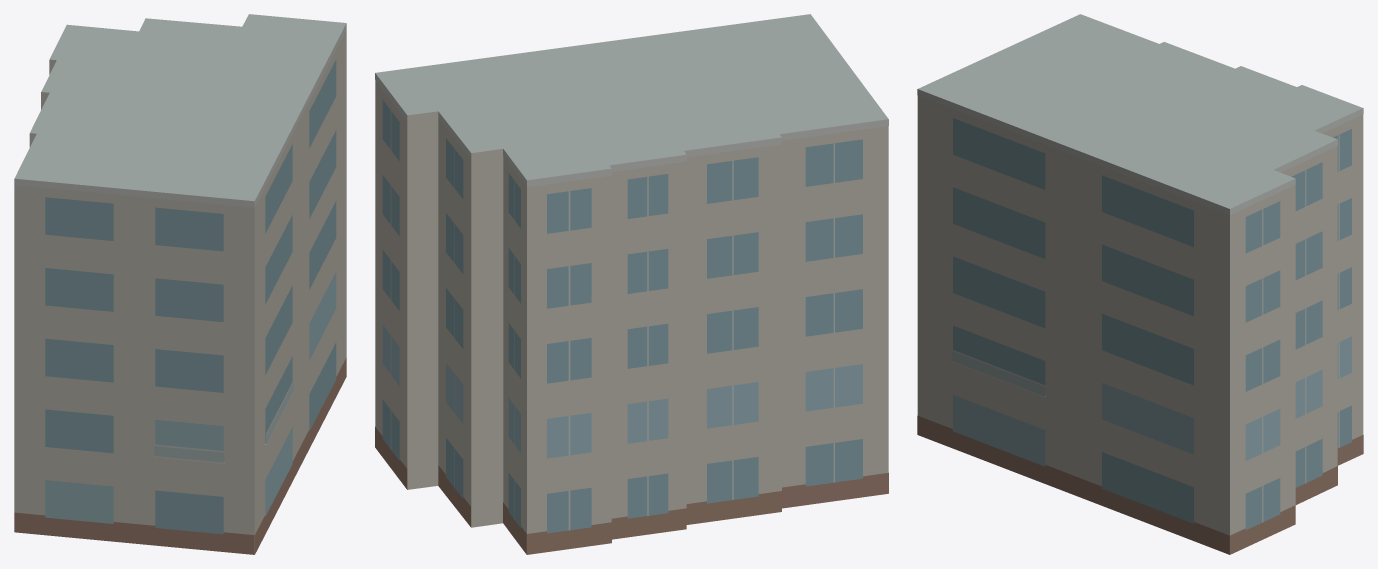
The model's file is survey-upis-32673871.glb.
3 views of the same model, side by side, from view 1: azimuth 30°, elevation 25°; view 2: azimuth 150°, elevation 25°; view 3: azimuth 270°, elevation 25° (orthographic). The views are drawn at different scales.
Visible parts, largest first — view 1: survey-upis-32673871.tmp; view 2: survey-upis-32673871.tmp; view 3: survey-upis-32673871.tmp.
Part boxes in pixels (<box>): survey-upis-32673871.tmp: <box>14,14,346,554</box>; survey-upis-32673871.tmp: <box>375,14,888,554</box>; survey-upis-32673871.tmp: <box>917,14,1363,554</box>.
Bounding box in the file's own units: 16.27 × 13.45 × 15.72.
